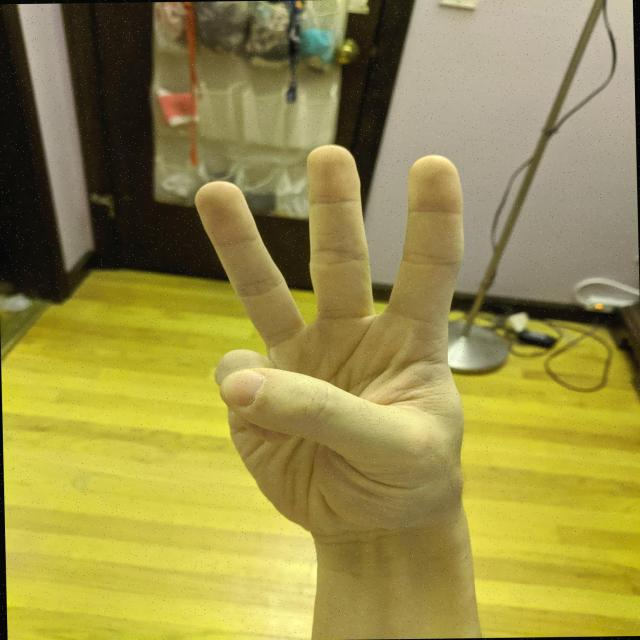W: (187, 138, 478, 538)
